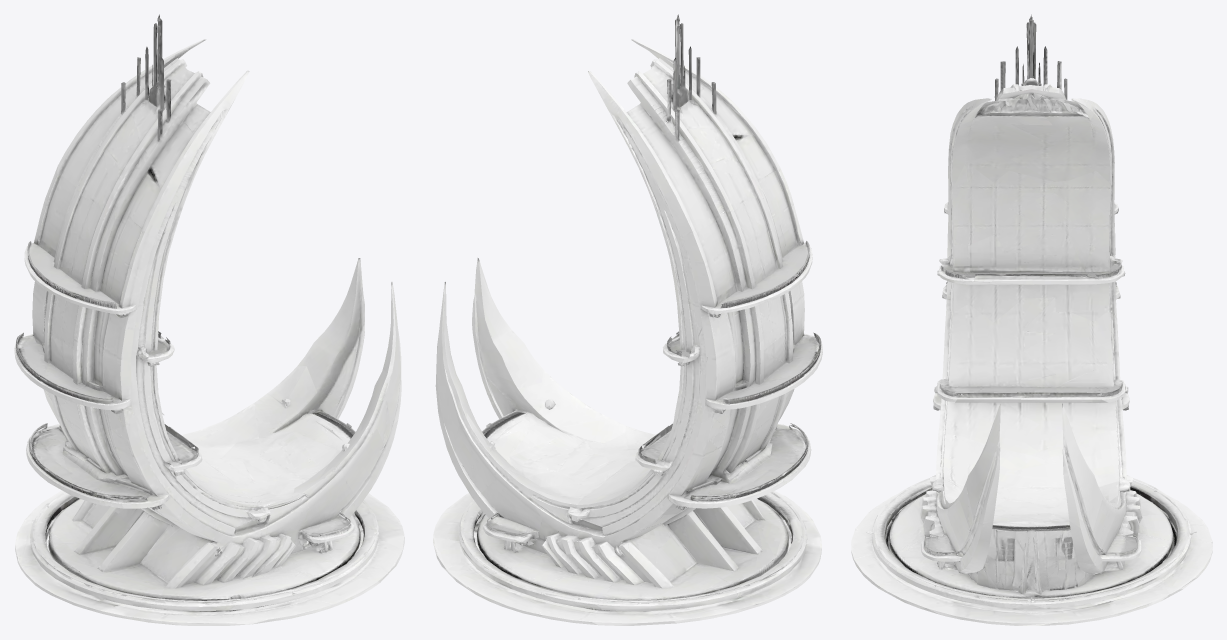
File: tower-crescent2.glb
3 views of the same model, side by side, from view 1: azimuth 30°, elevation 25°; view 2: azimuth 150°, elevation 25°; view 3: azimuth 270°, elevation 25° (orthographic). The views are drawn at different scales.
Visible parts, largest first — view 1: Mesh_0; view 2: Mesh_0; view 3: Mesh_0.
Boxes of the visible parts, bbox=[...] form: Mesh_0: bbox=[14, 14, 404, 625]; Mesh_0: bbox=[433, 14, 822, 625]; Mesh_0: bbox=[851, 14, 1212, 625].
Size of the model in its own units: 1.27 by 1.9 by 1.22.
1 material, 1 textured.
